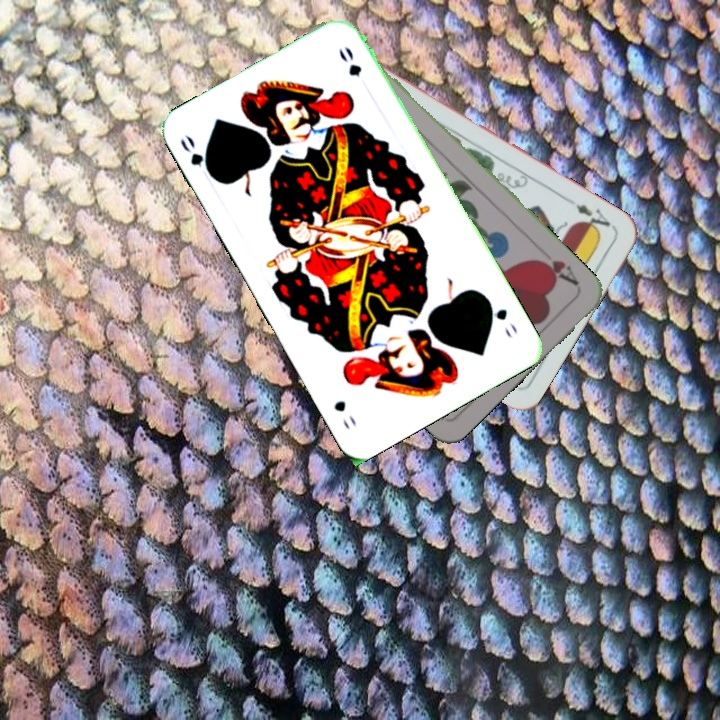EA: (571, 200, 617, 236)
GO: (176, 131, 218, 183), (482, 293, 521, 340)
HA: (531, 254, 582, 289)
